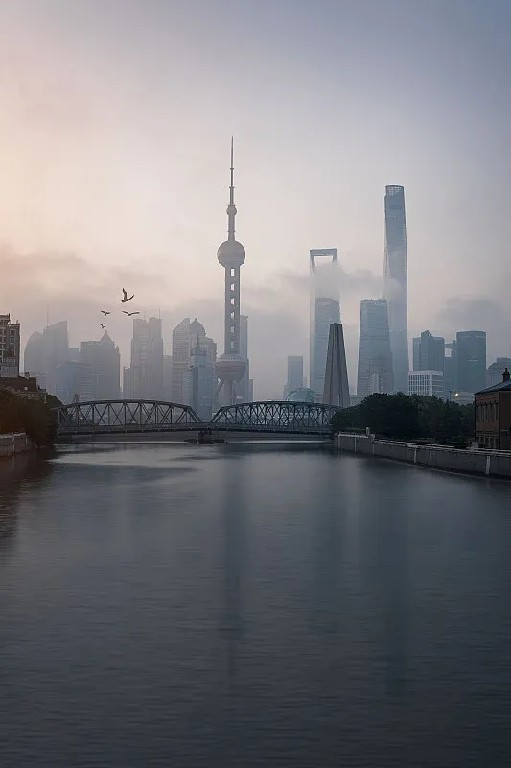Oriental: (214, 137, 248, 407)
